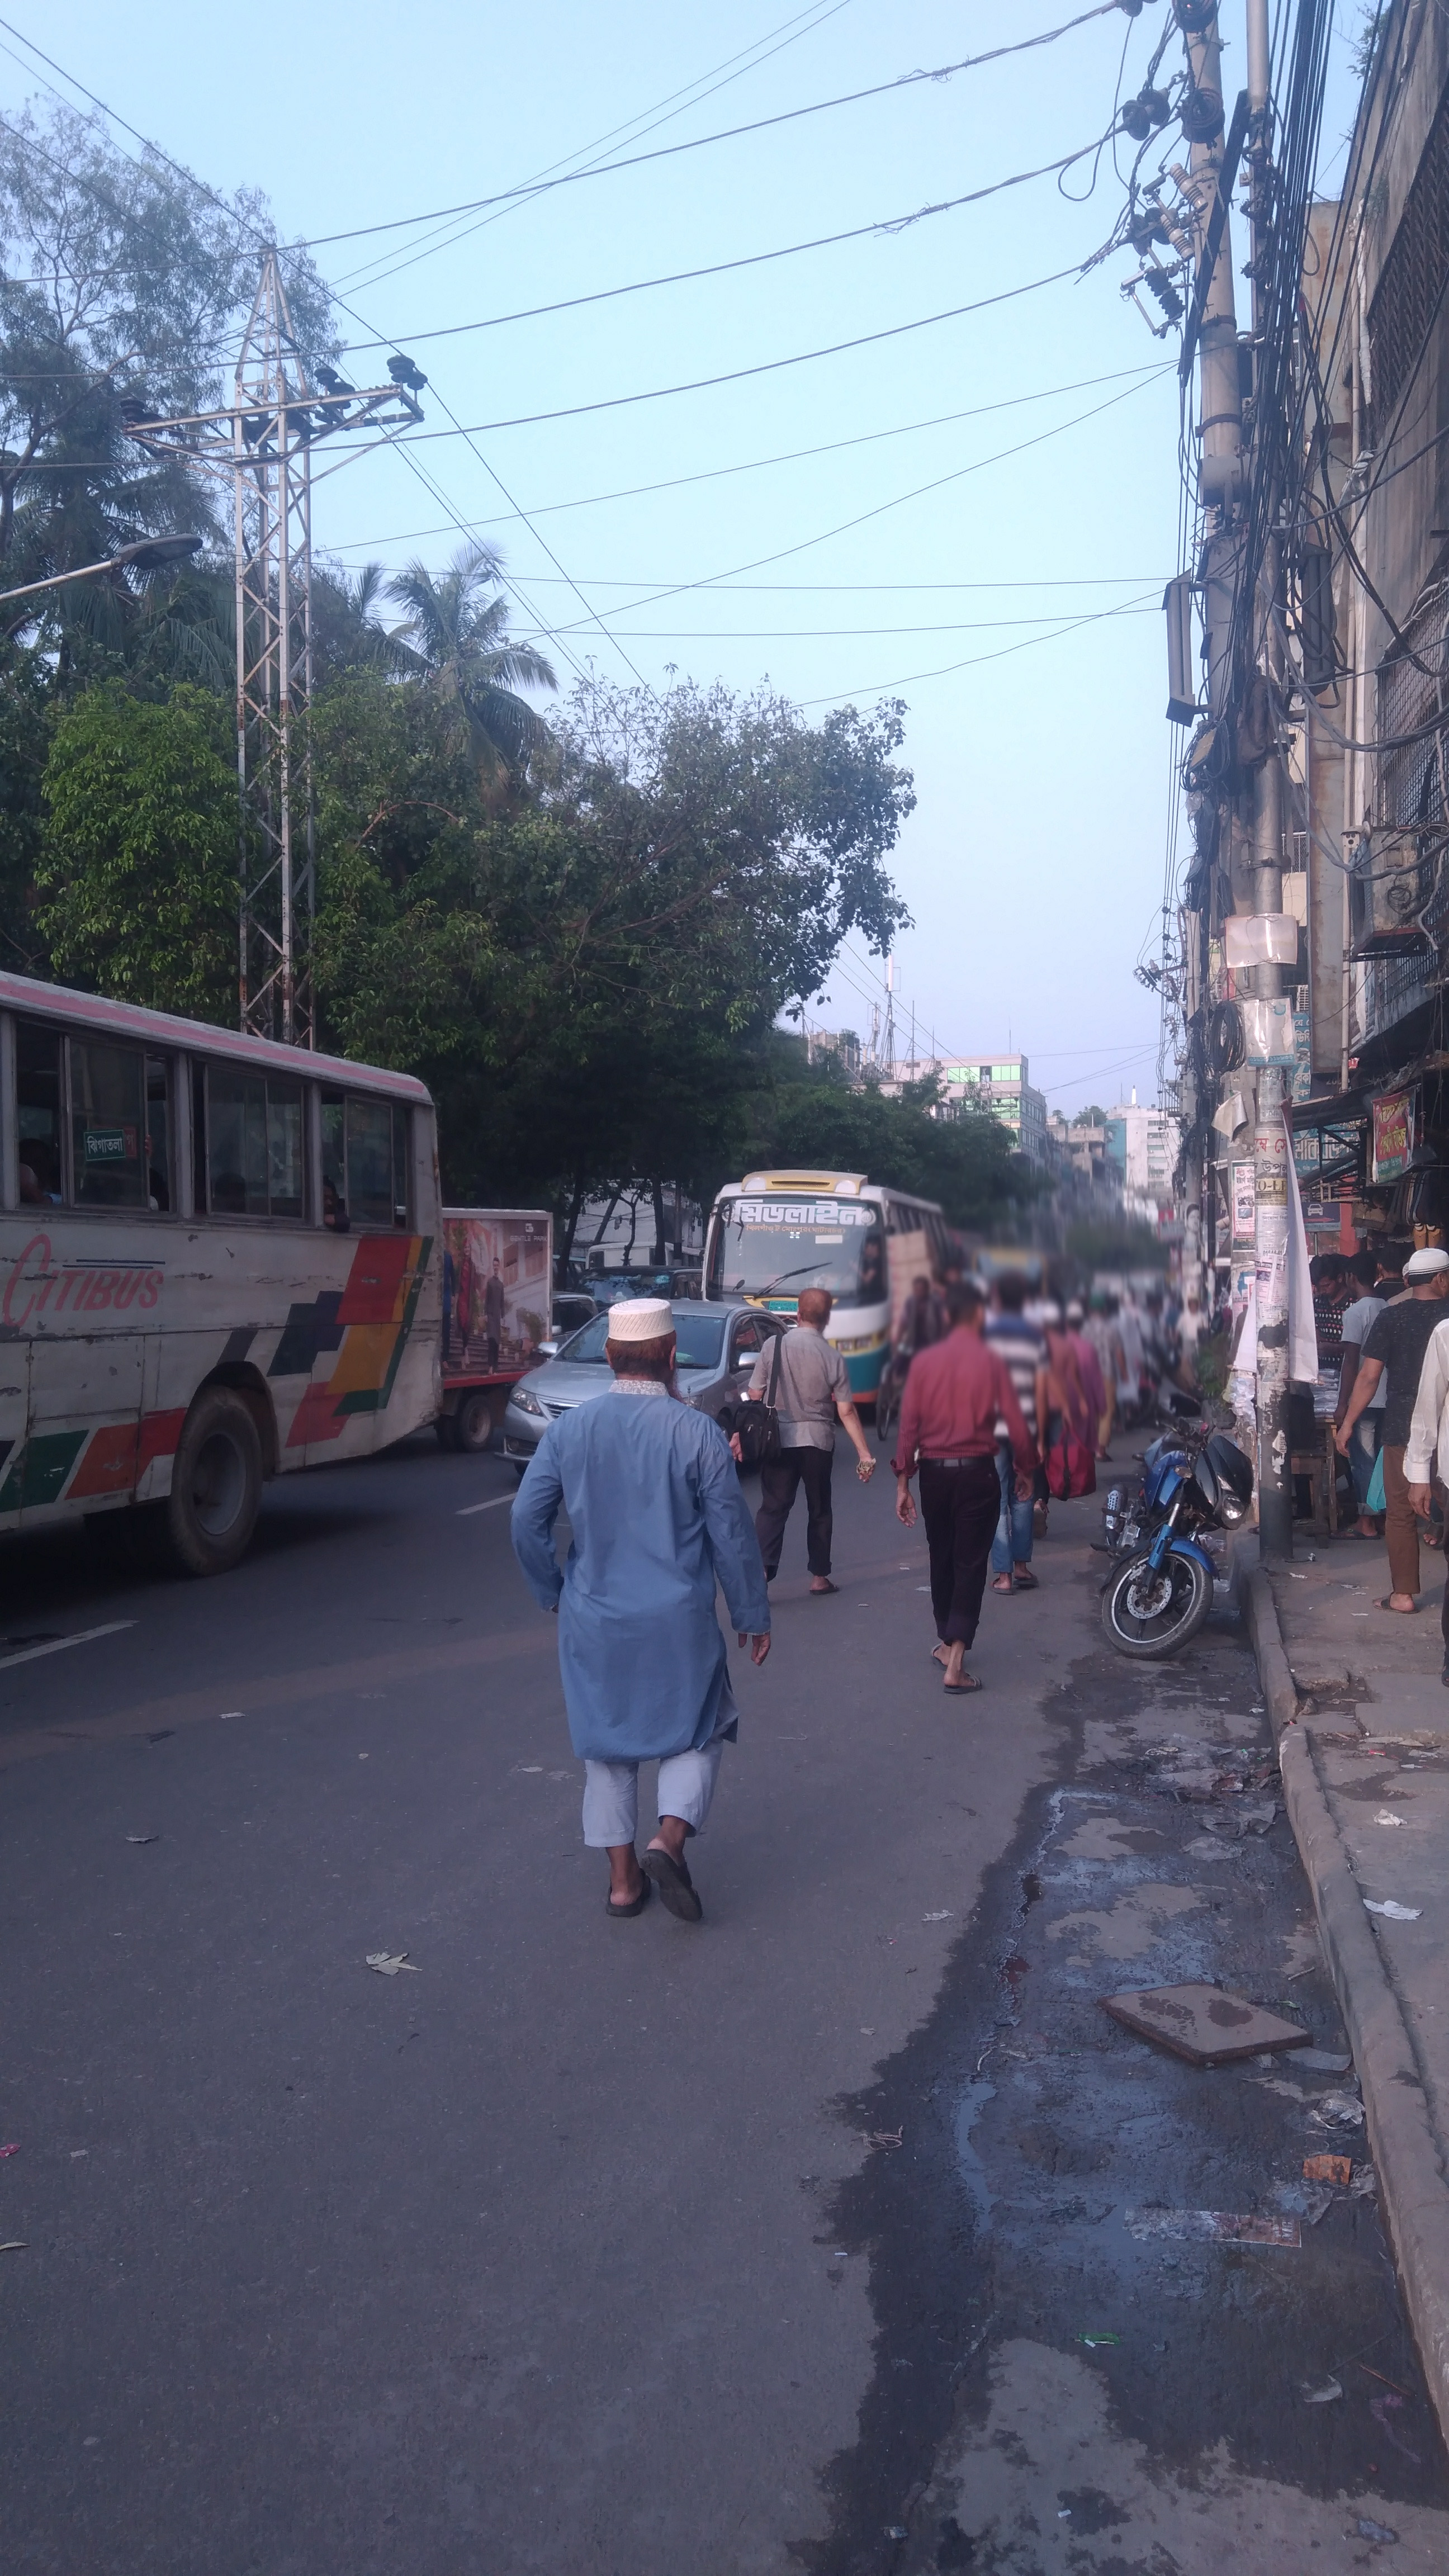bike: (1104, 1401, 1251, 1652)
bus: (0, 966, 449, 1576), (701, 1166, 939, 1410)
car: (510, 1299, 809, 1461)
